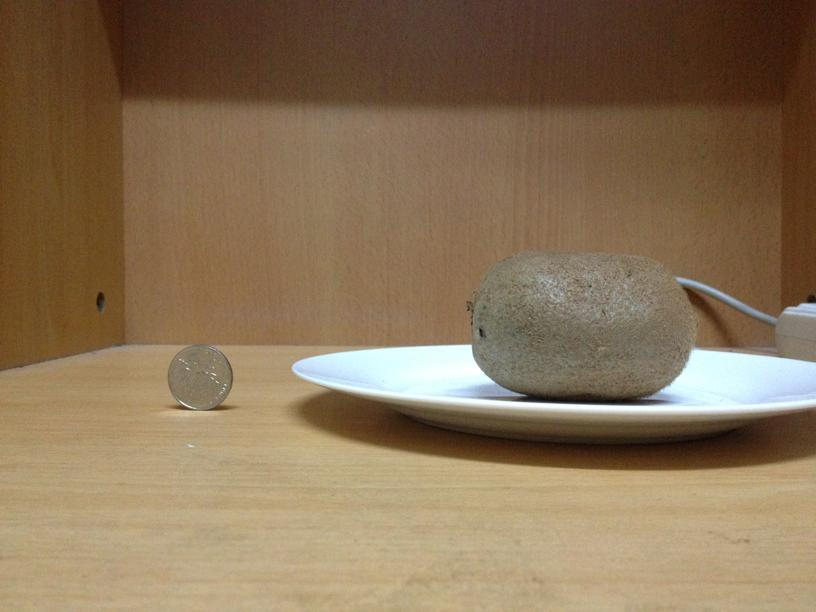coin: (164, 341, 234, 413)
qiwi: (461, 243, 697, 396)
